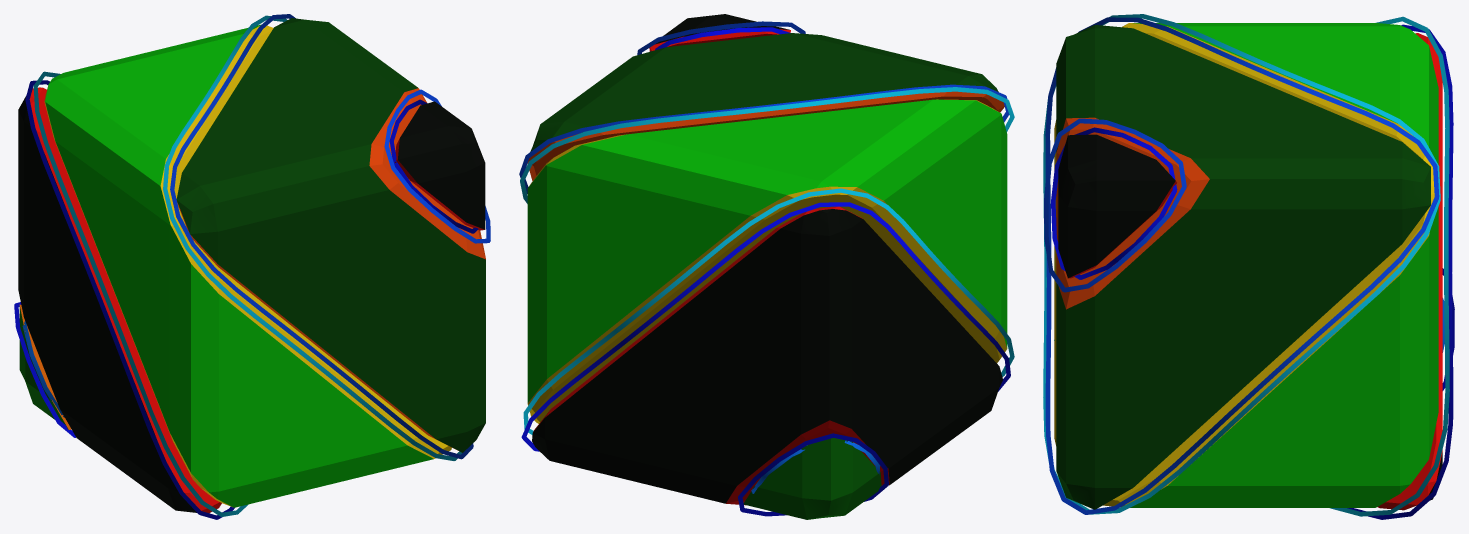
3 views of the same model, side by side, from view 1: azimuth 30°, elevation 25°; view 2: azimuth 150°, elevation 25°; view 3: azimuth 270°, elevation 25° (orthographic). The views are drawn at different scales.
Visible parts, largest first — view 1: Box_B; view 2: Box_B; view 3: Box_B.
Boxes of the visible parts, x1,y1,x2,y2 form: Box_B: (14,14,490,519); Box_B: (519,14,1014,519); Box_B: (1043,14,1454,519).
Size of the model in its own units: 1065 by 1073 by 1071.
